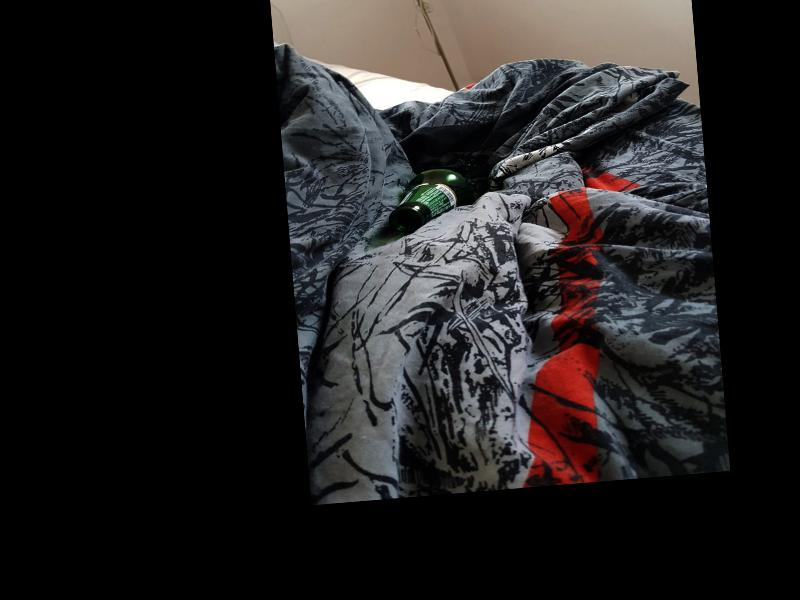Beer: (383, 155, 497, 235)
